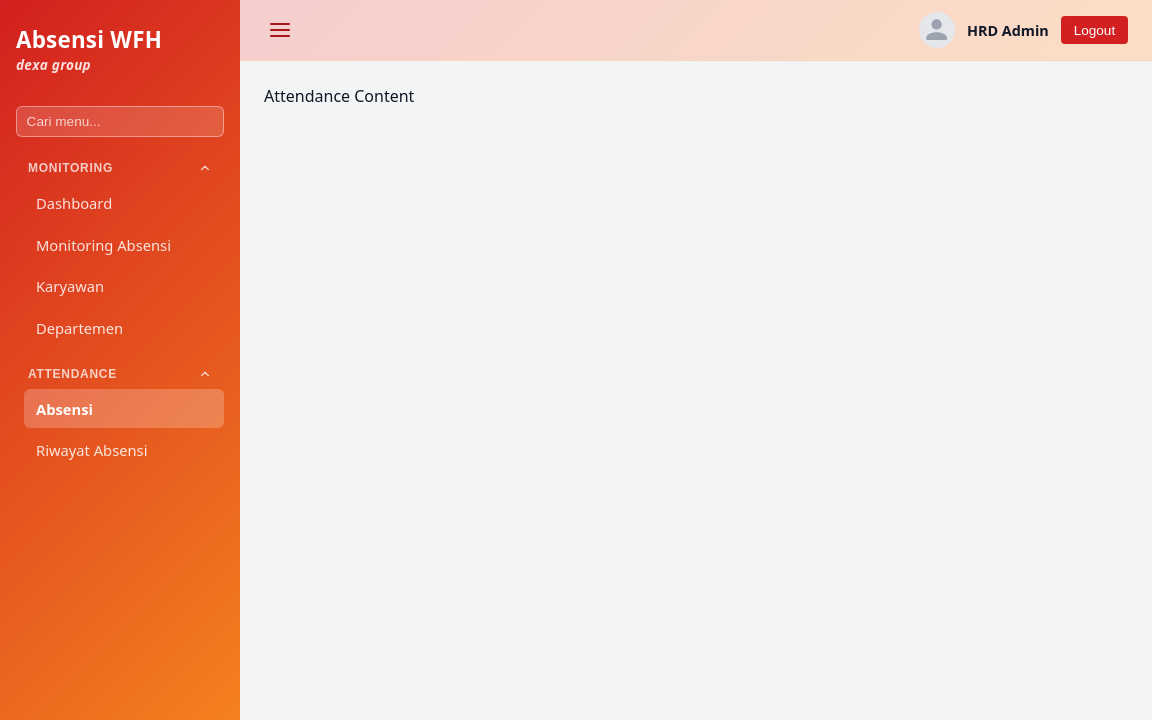
Test case: AppLayout › collapsing the Monitoring group hides its links when not on one of its pages
The width and height of the screenshot is (1152, 720).
Click the button "Monitoring": coordinates (120, 168) [16,153,224,183]
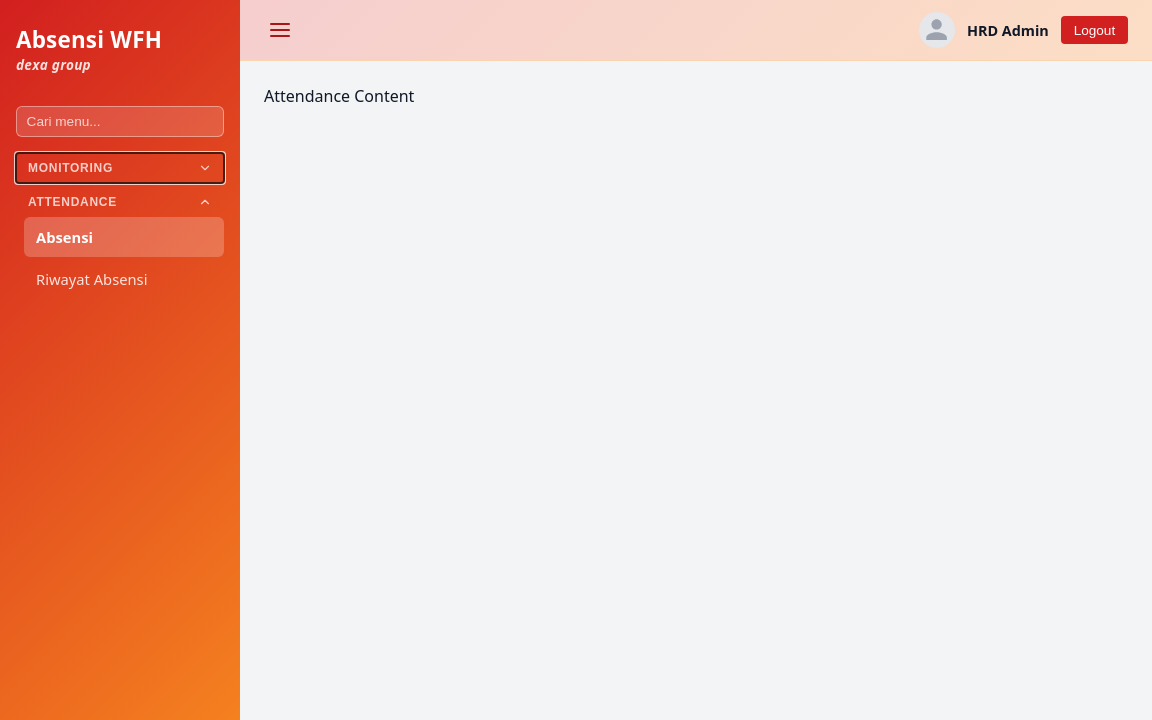
Expected: the link "Absensi" is shown, [24,217,224,257]
Now the link "Dashboard" is gone
Now the link "Karyawan" is gone
